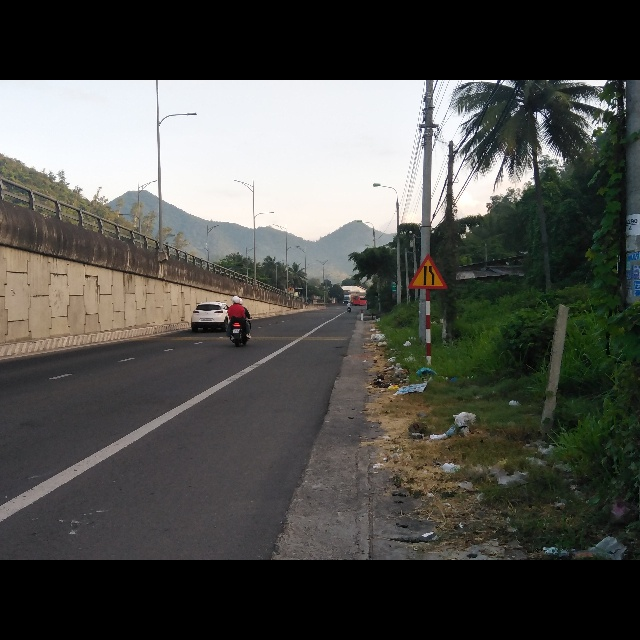Đường bị hẹp bên phải: (408, 254, 448, 289)
